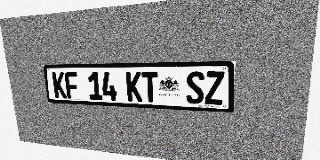1: (87, 72, 103, 100)
4: (101, 72, 117, 101)
F: (64, 72, 80, 99)
K: (126, 72, 142, 102), (52, 72, 67, 99)
S: (186, 71, 204, 104)
T: (142, 72, 159, 102)
Z: (205, 71, 225, 105)
